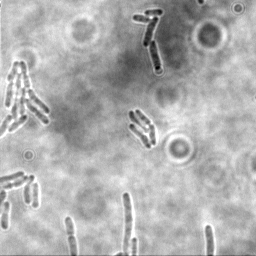Dividing: (63, 215, 79, 255), (141, 15, 160, 48)
Microcolony: (1, 59, 53, 139), (1, 170, 42, 231), (126, 108, 157, 150)
Rod: (121, 191, 133, 255), (147, 40, 161, 72), (204, 224, 214, 255), (131, 13, 152, 25), (143, 8, 165, 17)
